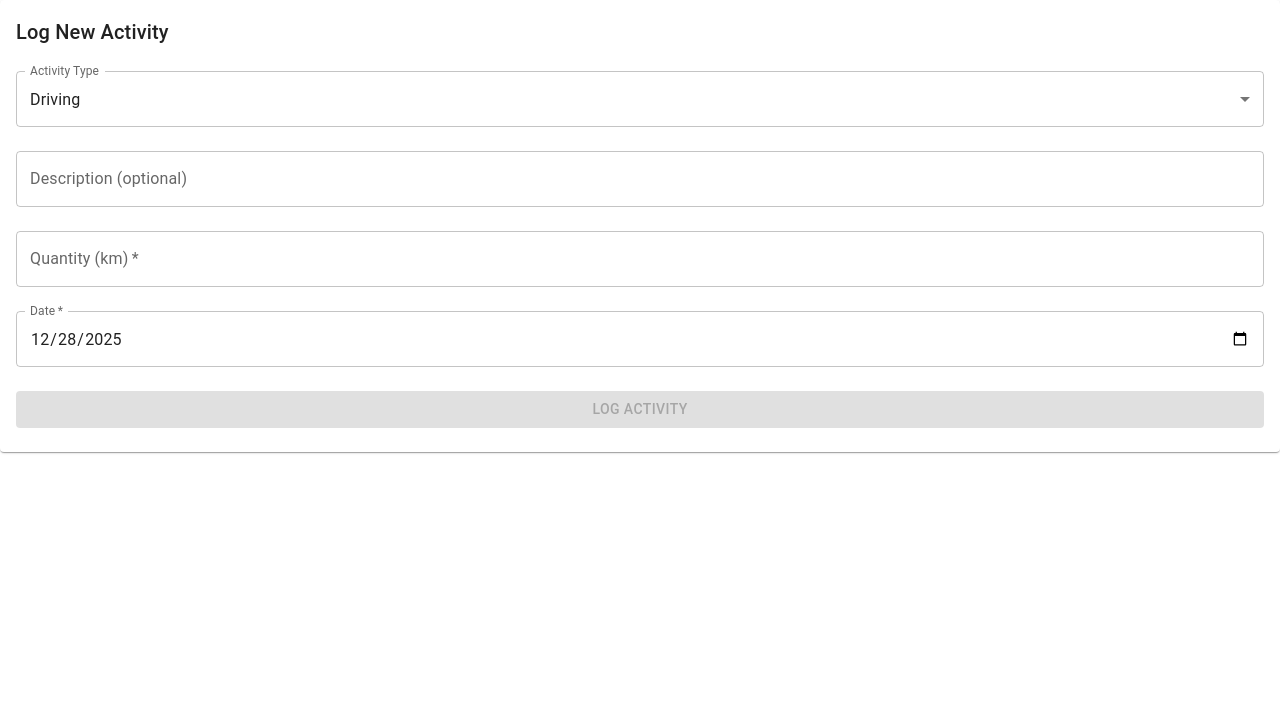
ActivityForm › submits form and shows success message
Type "100" into the number field at coordinates (640, 259), box [16,231,1264,287]
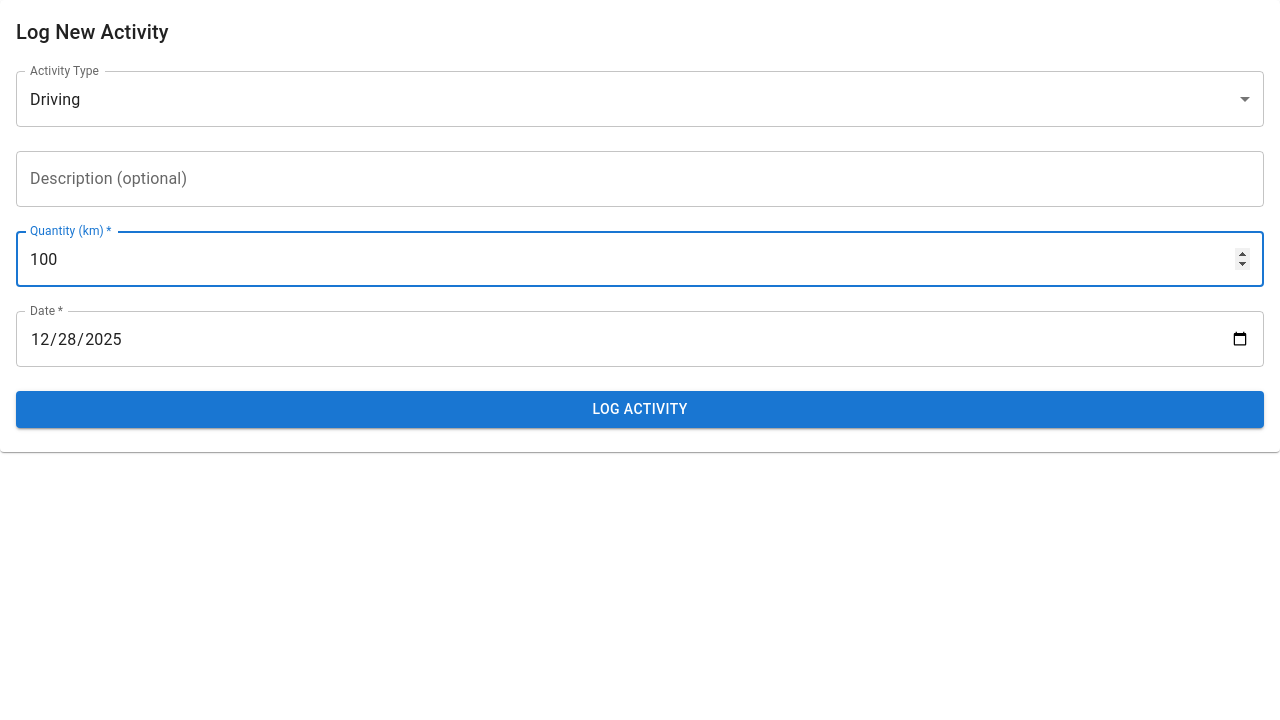
Click the button "Log Activity" at coordinates (640, 409), box [16,391,1264,428]
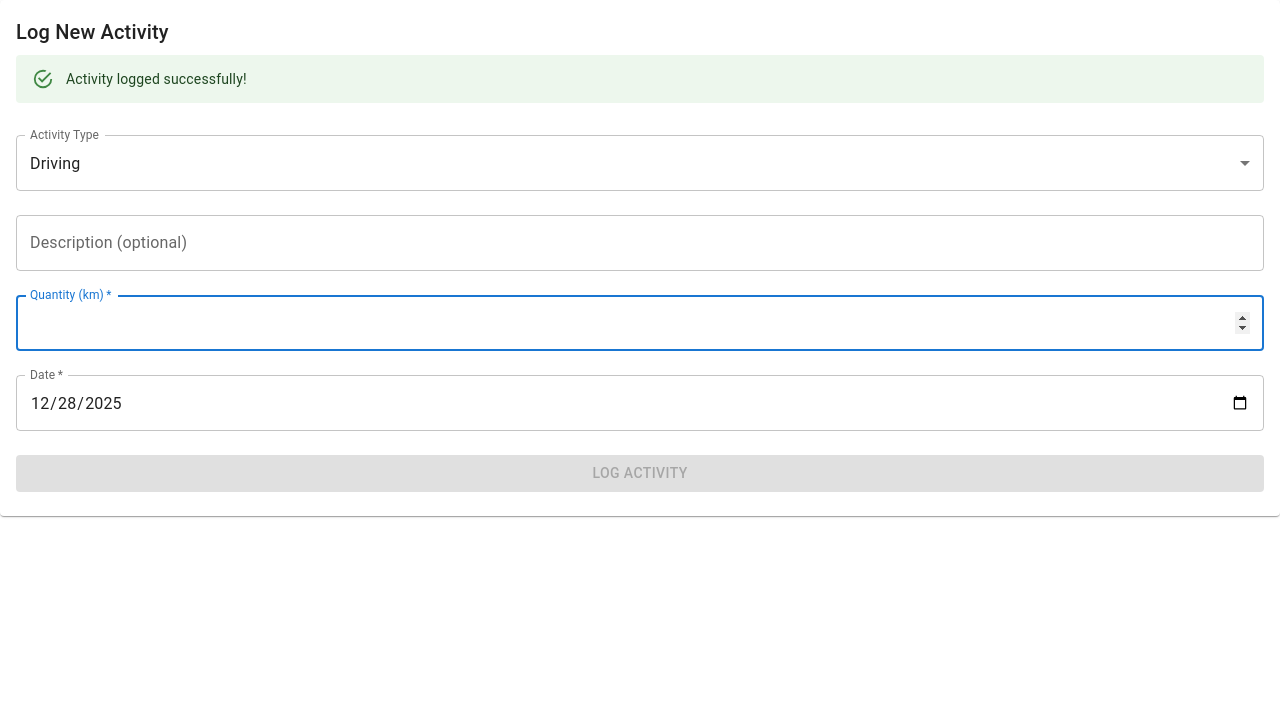
Now the text "Activity logged successfully!" is shown, box [66,71,247,87]
